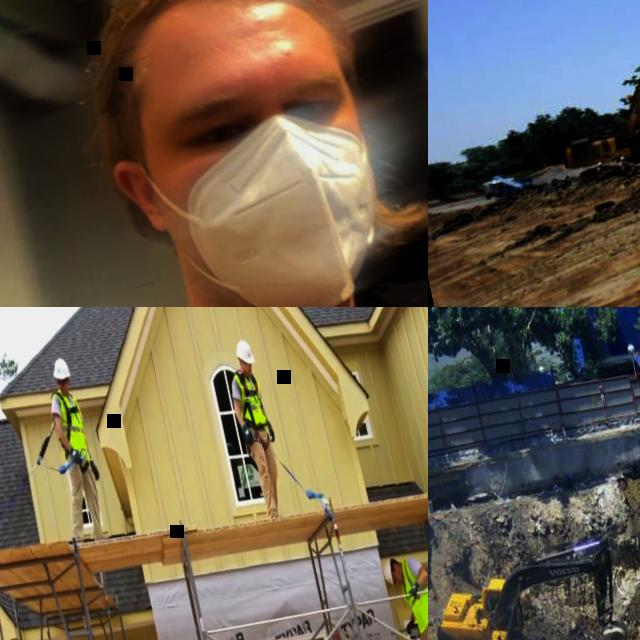Hardhat: (233, 337, 255, 365), (380, 556, 398, 588), (50, 356, 72, 382)
NO-Hardhat: (73, 0, 341, 90)
NO-Mask: (130, 105, 398, 307), (394, 568, 404, 586), (60, 384, 69, 396), (244, 366, 252, 376)
NO-Safety Vest: (0, 234, 428, 307)
Person: (0, 0, 428, 307), (37, 355, 112, 545), (220, 336, 291, 520), (380, 548, 428, 640)
Safety Vest: (50, 386, 90, 465), (394, 551, 428, 633), (232, 368, 266, 428)
vehicle: (428, 533, 634, 640), (530, 0, 640, 176)
